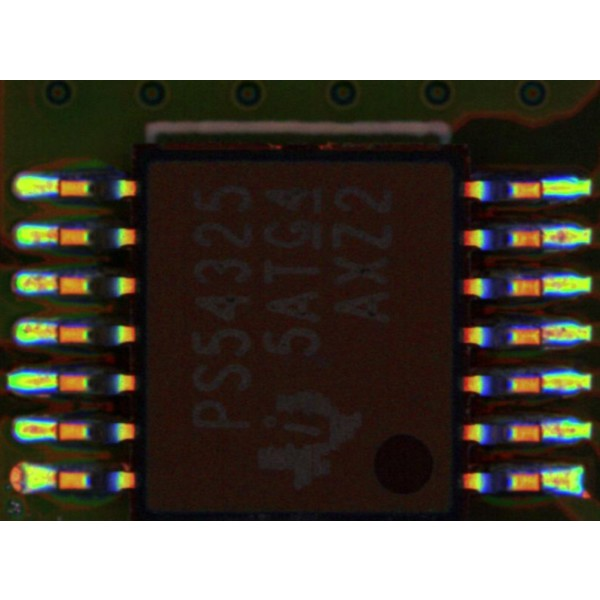Bad_podu: (42, 328, 68, 339), (534, 329, 550, 345), (45, 425, 68, 436), (535, 374, 549, 392), (45, 231, 70, 241)
